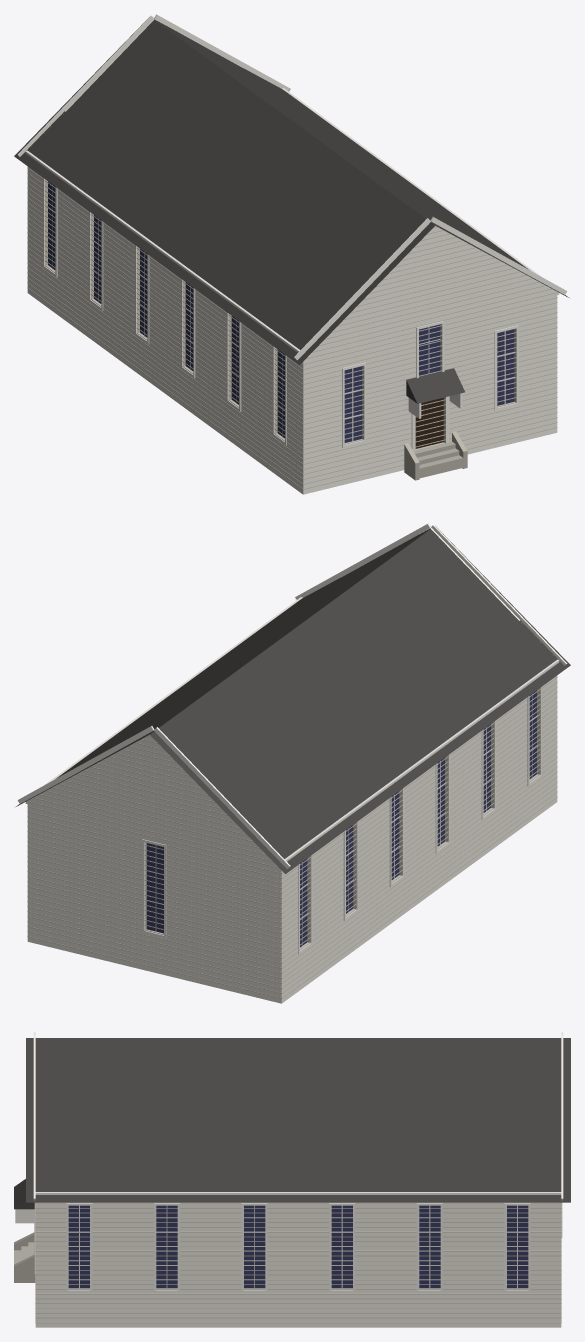
The model's file is ch-foursquare-gospel-1961.glb.
3 renders of one model, top to bottom at view 1: azimuth 30°, elevation 25°; view 2: azimuth 150°, elevation 25°; view 3: azimuth 270°, elevation 25°, orthographic. The views are drawn at different scales.
Visible parts, largest first — view 1: ch_roof, ch_brick, ch_brick2, ch_trim, ch_stain, ch_conc, ch_roof2, ch_door; view 2: ch_roof, ch_brick, ch_brick2, ch_trim, ch_stain; view 3: ch_roof, ch_brick, ch_brick2, ch_stain, ch_trim, ch_conc, ch_roof2.
Boxes of the visible parts, x1=… form: ch_roof: x1=14, y1=17, x2=568, y2=364; ch_brick: x1=27, y1=166, x2=557, y2=494; ch_brick2: x1=27, y1=48, x2=557, y2=489; ch_trim: x1=17, y1=14, x2=567, y2=451; ch_stain: x1=48, y1=181, x2=514, y2=442; ch_conc: x1=404, y1=431, x2=467, y2=480; ch_roof2: x1=406, y1=368, x2=464, y2=403; ch_door: x1=415, y1=397, x2=443, y2=448; ch_roof: x1=16, y1=526, x2=570, y2=873; ch_brick: x1=27, y1=675, x2=557, y2=1003; ch_brick2: x1=27, y1=557, x2=557, y2=998; ch_trim: x1=17, y1=523, x2=567, y2=954; ch_stain: x1=146, y1=690, x2=536, y2=947; ch_roof: x1=26, y1=1038, x2=570, y2=1202; ch_brick: x1=35, y1=1202, x2=561, y2=1327; ch_brick2: x1=35, y1=1203, x2=561, y2=1323; ch_stain: x1=68, y1=1205, x2=528, y2=1288; ch_trim: x1=15, y1=1032, x2=563, y2=1292; ch_conc: x1=14, y1=1232, x2=35, y2=1282; ch_roof2: x1=14, y1=1179, x2=34, y2=1209.
Size of the model in its own units: 12.55 by 10.95 by 23.28.
